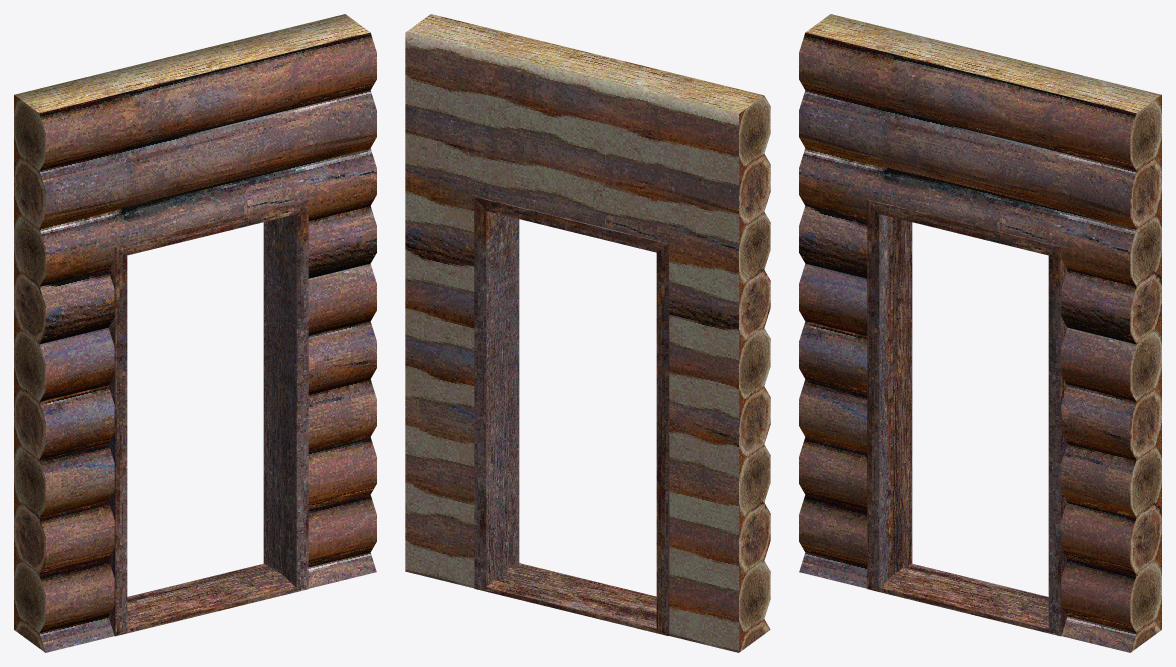
File: wall-B-doorway.glb
3 views of the same model, side by side, from view 1: azimuth 30°, elevation 25°; view 2: azimuth 150°, elevation 25°; view 3: azimuth 330°, elevation 25° (orthographic).
Parts seen in each view (by area): view 1: wall-B-doorway.001; view 2: wall-B-doorway.001; view 3: wall-B-doorway.001.
Part boxes in pixels (<box>): wall-B-doorway.001: <box>14,14,376,652</box>; wall-B-doorway.001: <box>405,14,770,652</box>; wall-B-doorway.001: <box>799,14,1161,652</box>.
Size of the model in its own units: 2 by 3.09 by 0.3443.
Materials: 2 (2 with a texture image).
